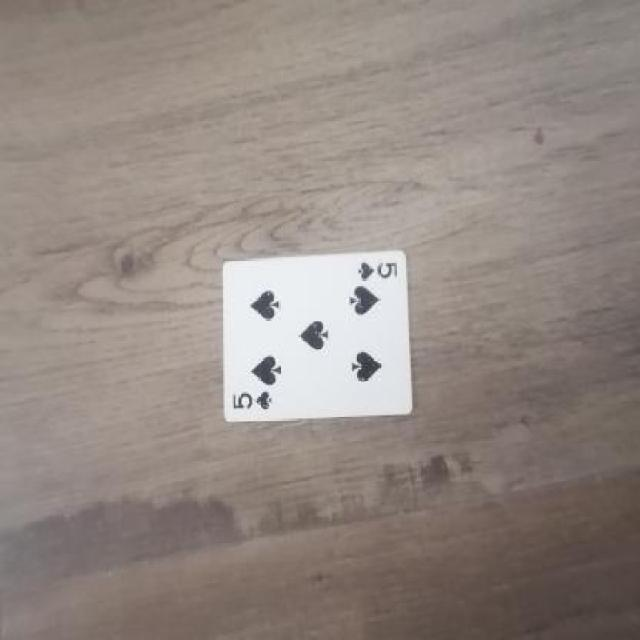5S: (348, 254, 401, 286), (228, 388, 282, 419)
